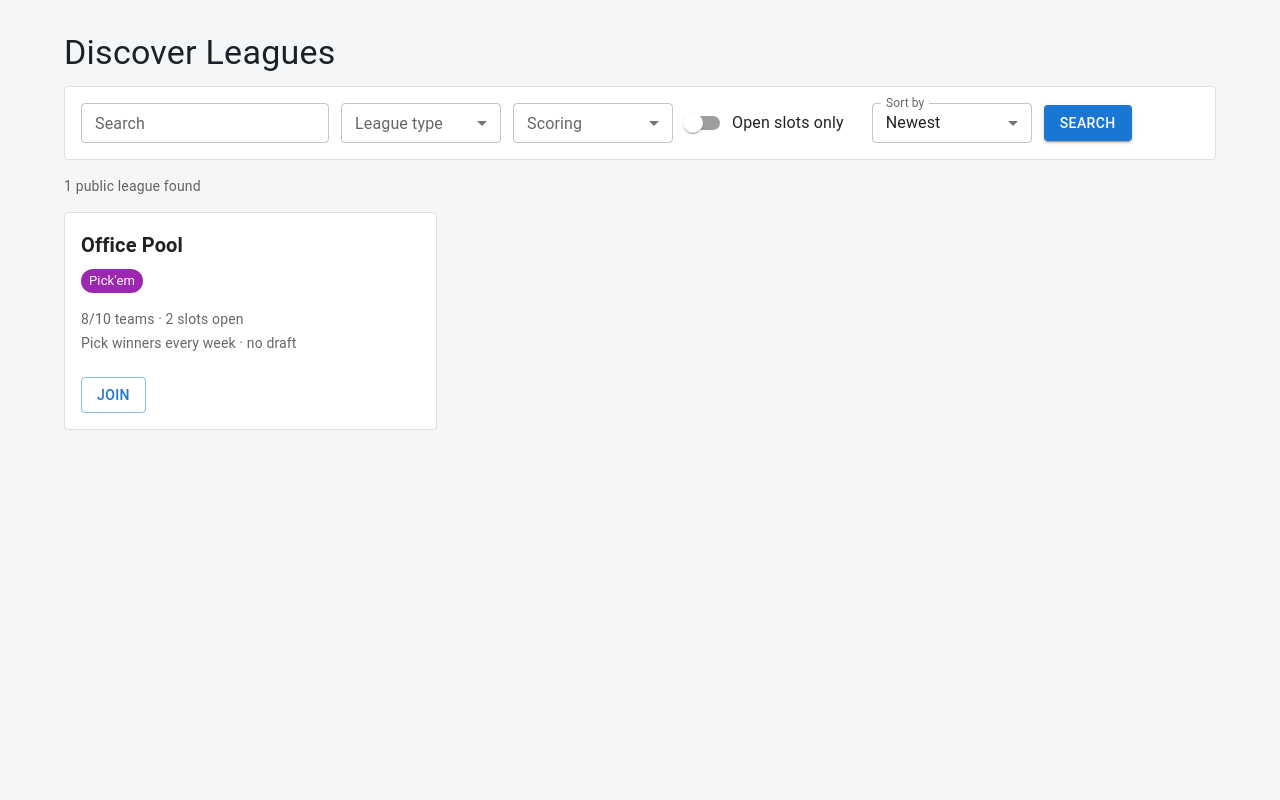
Test: the join dialog for a pick'em-only league explains what the team name is
Expected: the heading "Office Pool" is shown, 81,233 -> 183,257
Click the button "Join" at [113, 395], box 81,377 -> 146,413
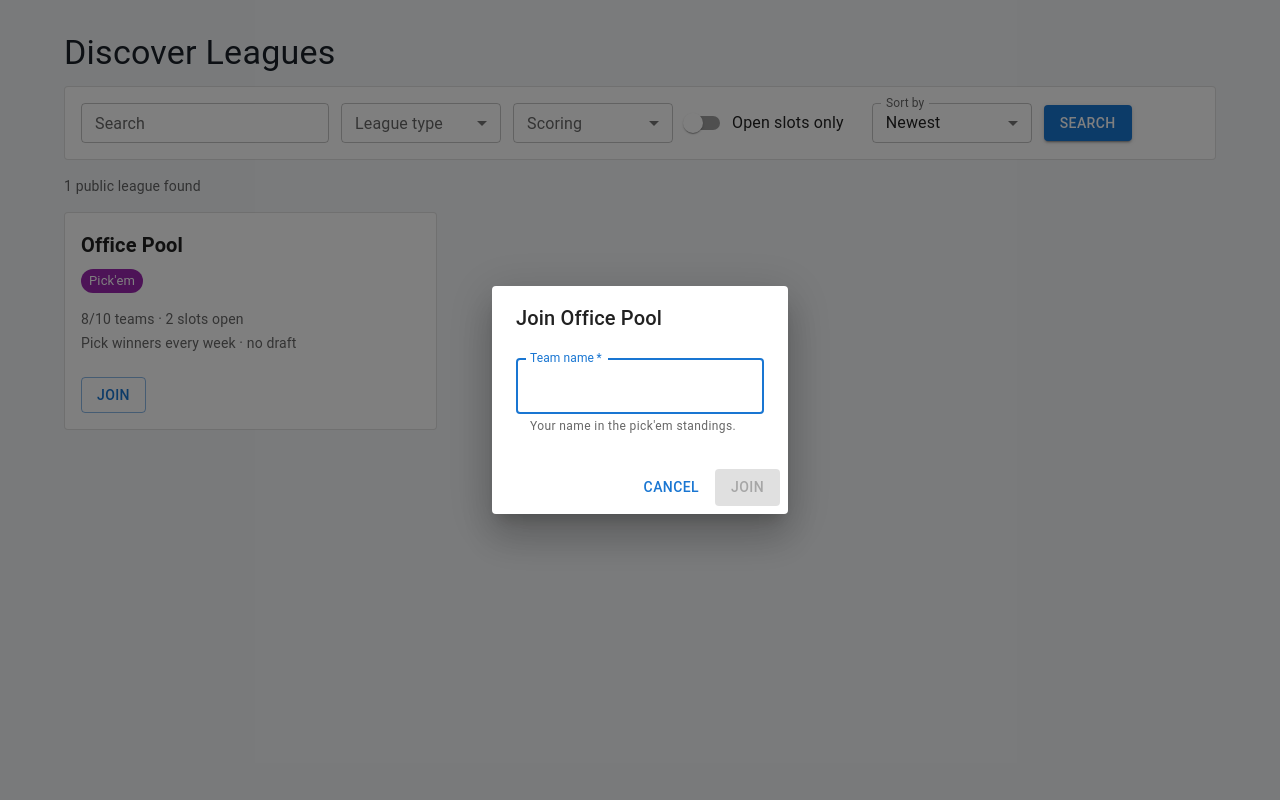
Expected: the field labelled "Team name *" is shown, 516,358 -> 764,414
Expected: the text "Your name in the pick'em standings." is shown, 530,417 -> 750,437
